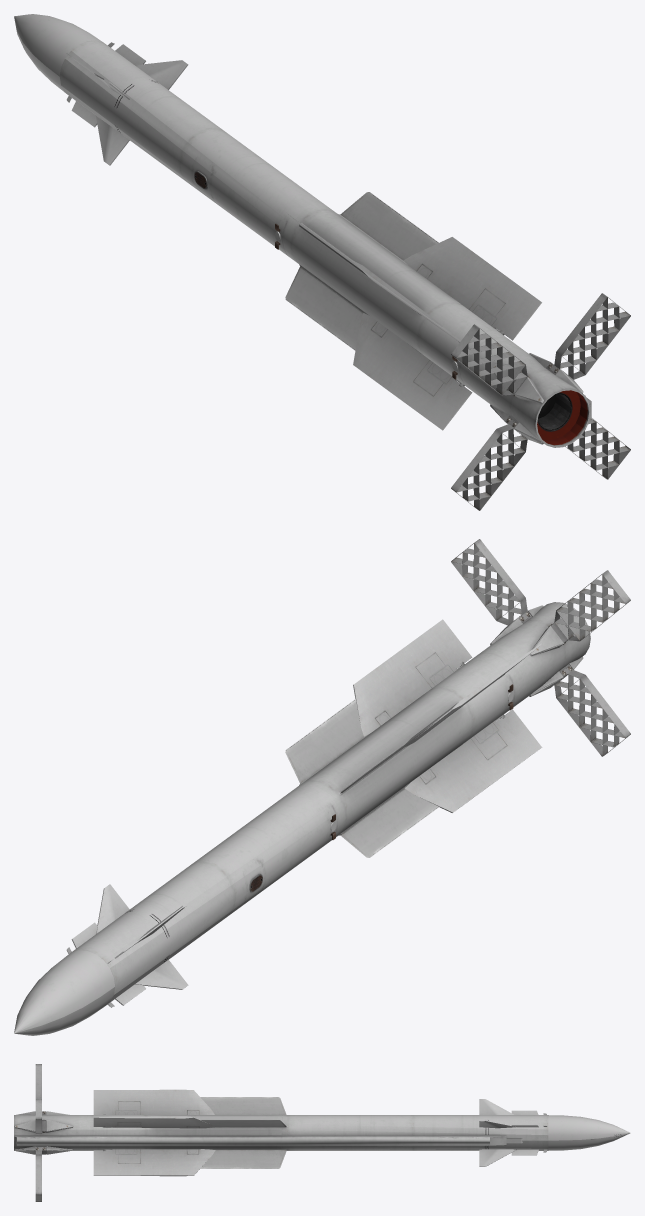
The model's file is ru_aam.glb.
3 views of the same model, one above another, from view 1: azimuth 30°, elevation 25°; view 2: azimuth 150°, elevation 25°; view 3: azimuth 270°, elevation 25° (orthographic). The views are drawn at different scales.
Visible parts, largest first — view 1: r77, r73; view 2: r77, r73; view 3: r77, r73.
Boxes of the visible parts, box(x1,y1,x2,y2) form: r77: box(14, 14, 630, 510); r73: box(66, 42, 541, 430); r77: box(14, 539, 630, 1035); r73: box(66, 619, 541, 1007); r77: box(14, 1064, 630, 1201); r73: box(93, 1089, 547, 1176).
Size of the model in its own units: 0.6602 by 0.6602 by 3.6.
Materials: 3 (2 with a texture image).
